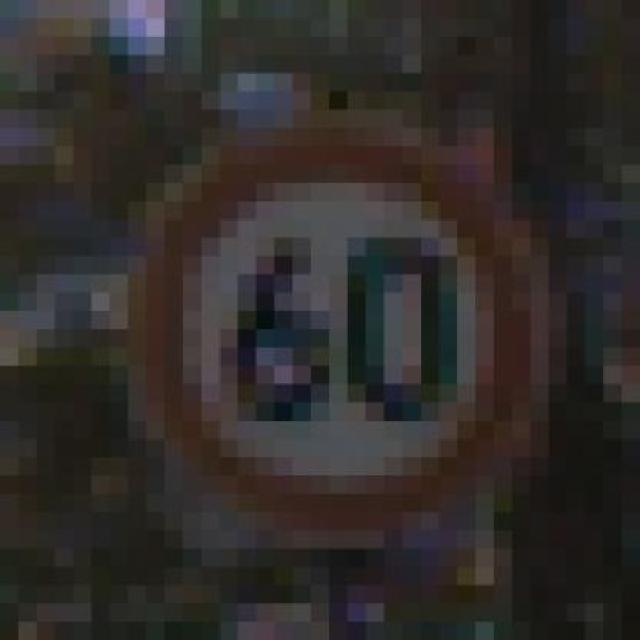forb_speed_over_60: (138, 128, 530, 527)
